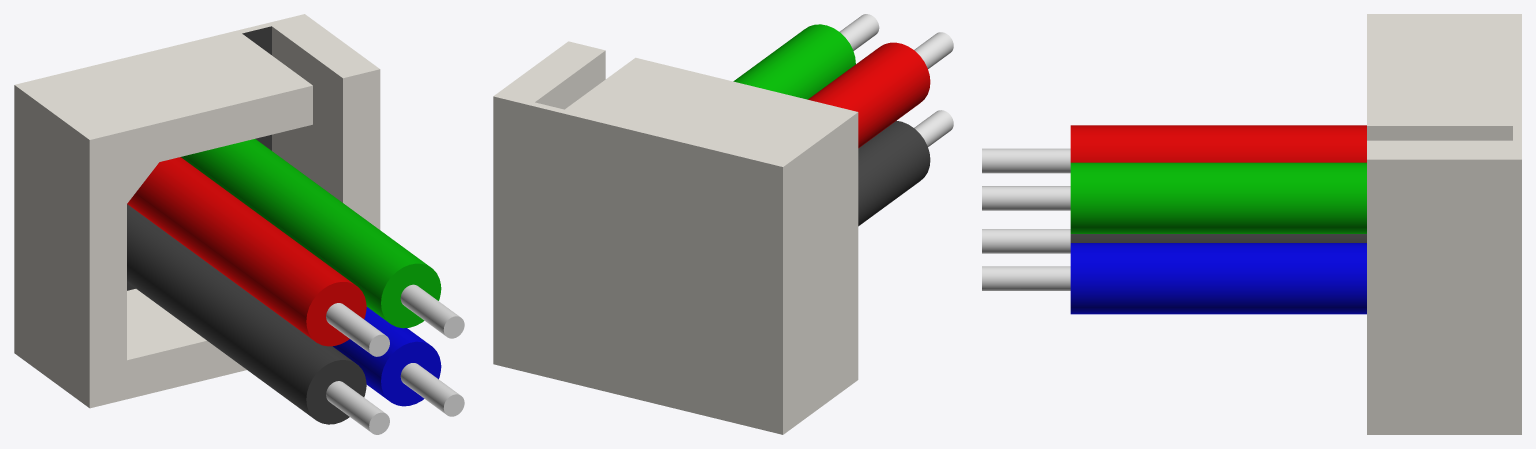
3 views of the same model, side by side, from view 1: azimuth 30°, elevation 25°; view 2: azimuth 150°, elevation 25°; view 3: azimuth 270°, elevation 25° (orthographic). The views are drawn at different scales.
Parts seen in each view (by area): view 1: mesh34160, mesh34164, mesh34161, mesh34152, mesh34148, mesh34139, mesh34147, mesh34145, mesh34153, mesh34149, mesh34138, mesh34151 (+6 smaller); view 2: mesh34165, mesh34164, mesh34161, mesh34148, mesh34139, mesh34152, mesh34147, mesh34154, mesh34156, mesh34137; view 3: mesh34162, mesh34139, mesh34150, mesh34161, mesh34148, mesh34152, mesh34154, mesh34137, mesh34156, mesh34158, mesh34141.
Part boxes in pixels (x1,y1,x2,y2): mesh34160: (89, 69, 380, 408); mesh34164: (14, 85, 89, 407); mesh34161: (15, 14, 379, 139); mesh34152: (127, 204, 355, 418); mesh34148: (127, 157, 354, 341); mesh34139: (181, 139, 430, 323); mesh34147: (272, 26, 342, 202); mesh34145: (127, 289, 206, 360); mesh34153: (306, 360, 366, 424); mesh34149: (306, 282, 366, 346); mesh34138: (381, 263, 441, 328); mesh34151: (381, 341, 441, 406); mesh34165: (493, 96, 782, 434); mesh34164: (783, 112, 858, 434); mesh34161: (493, 41, 857, 166); mesh34148: (808, 42, 930, 148); mesh34139: (733, 24, 855, 99); mesh34152: (858, 120, 930, 226); mesh34147: (535, 50, 605, 109); mesh34154: (914, 32, 953, 68); mesh34156: (914, 110, 953, 146); mesh34137: (839, 14, 879, 50); mesh34162: (1367, 159, 1521, 434); mesh34139: (1070, 162, 1366, 233); mesh34150: (1070, 243, 1366, 314); mesh34161: (1367, 14, 1521, 159); mesh34148: (1070, 125, 1366, 162); mesh34152: (1070, 234, 1366, 242); mesh34154: (982, 148, 1070, 173); mesh34137: (982, 186, 1070, 210); mesh34156: (982, 229, 1070, 253); mesh34158: (982, 266, 1070, 290); mesh34141: (1367, 126, 1512, 140).
Bounding box in the file's own units: 0.00778 × 0.00687 × 0.0122.
